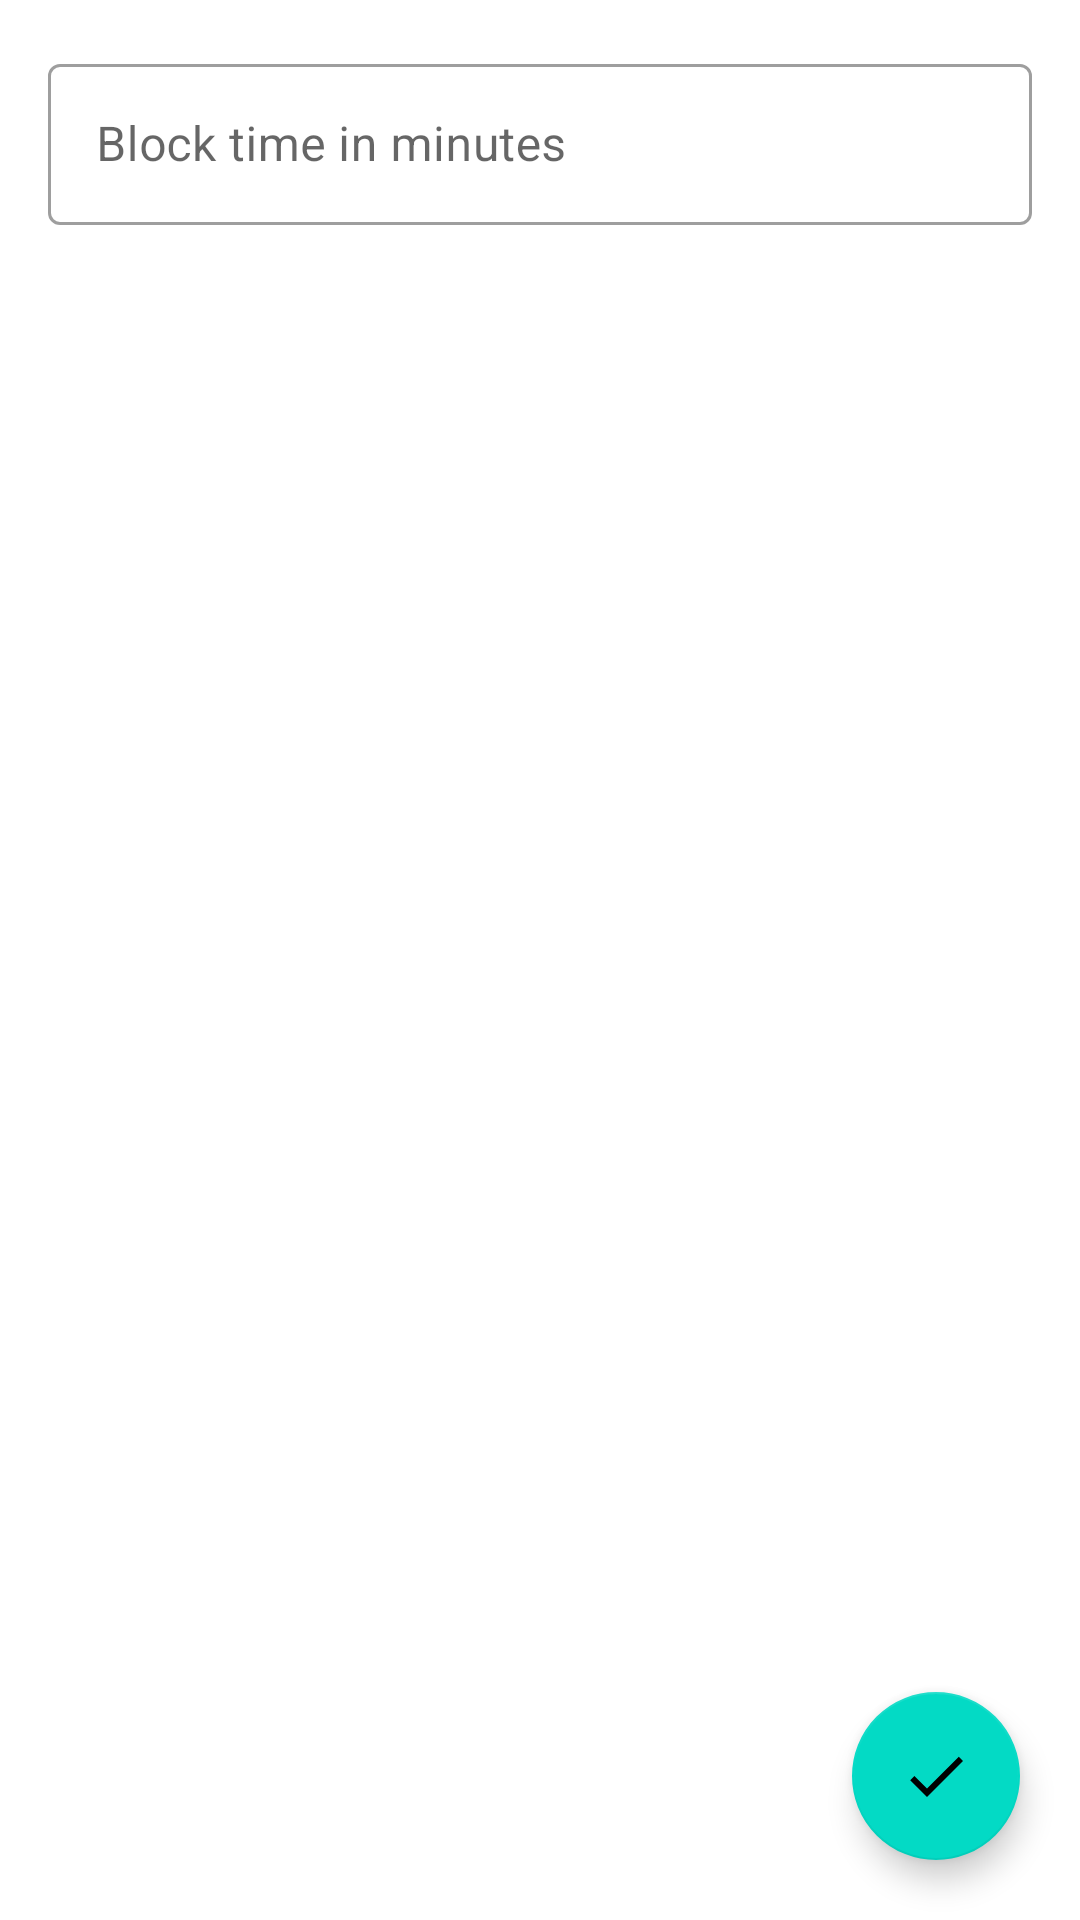

Where to tap for icons on this 1080w x 1920h app screen, as point (x, y):
done: point (936, 1776)
